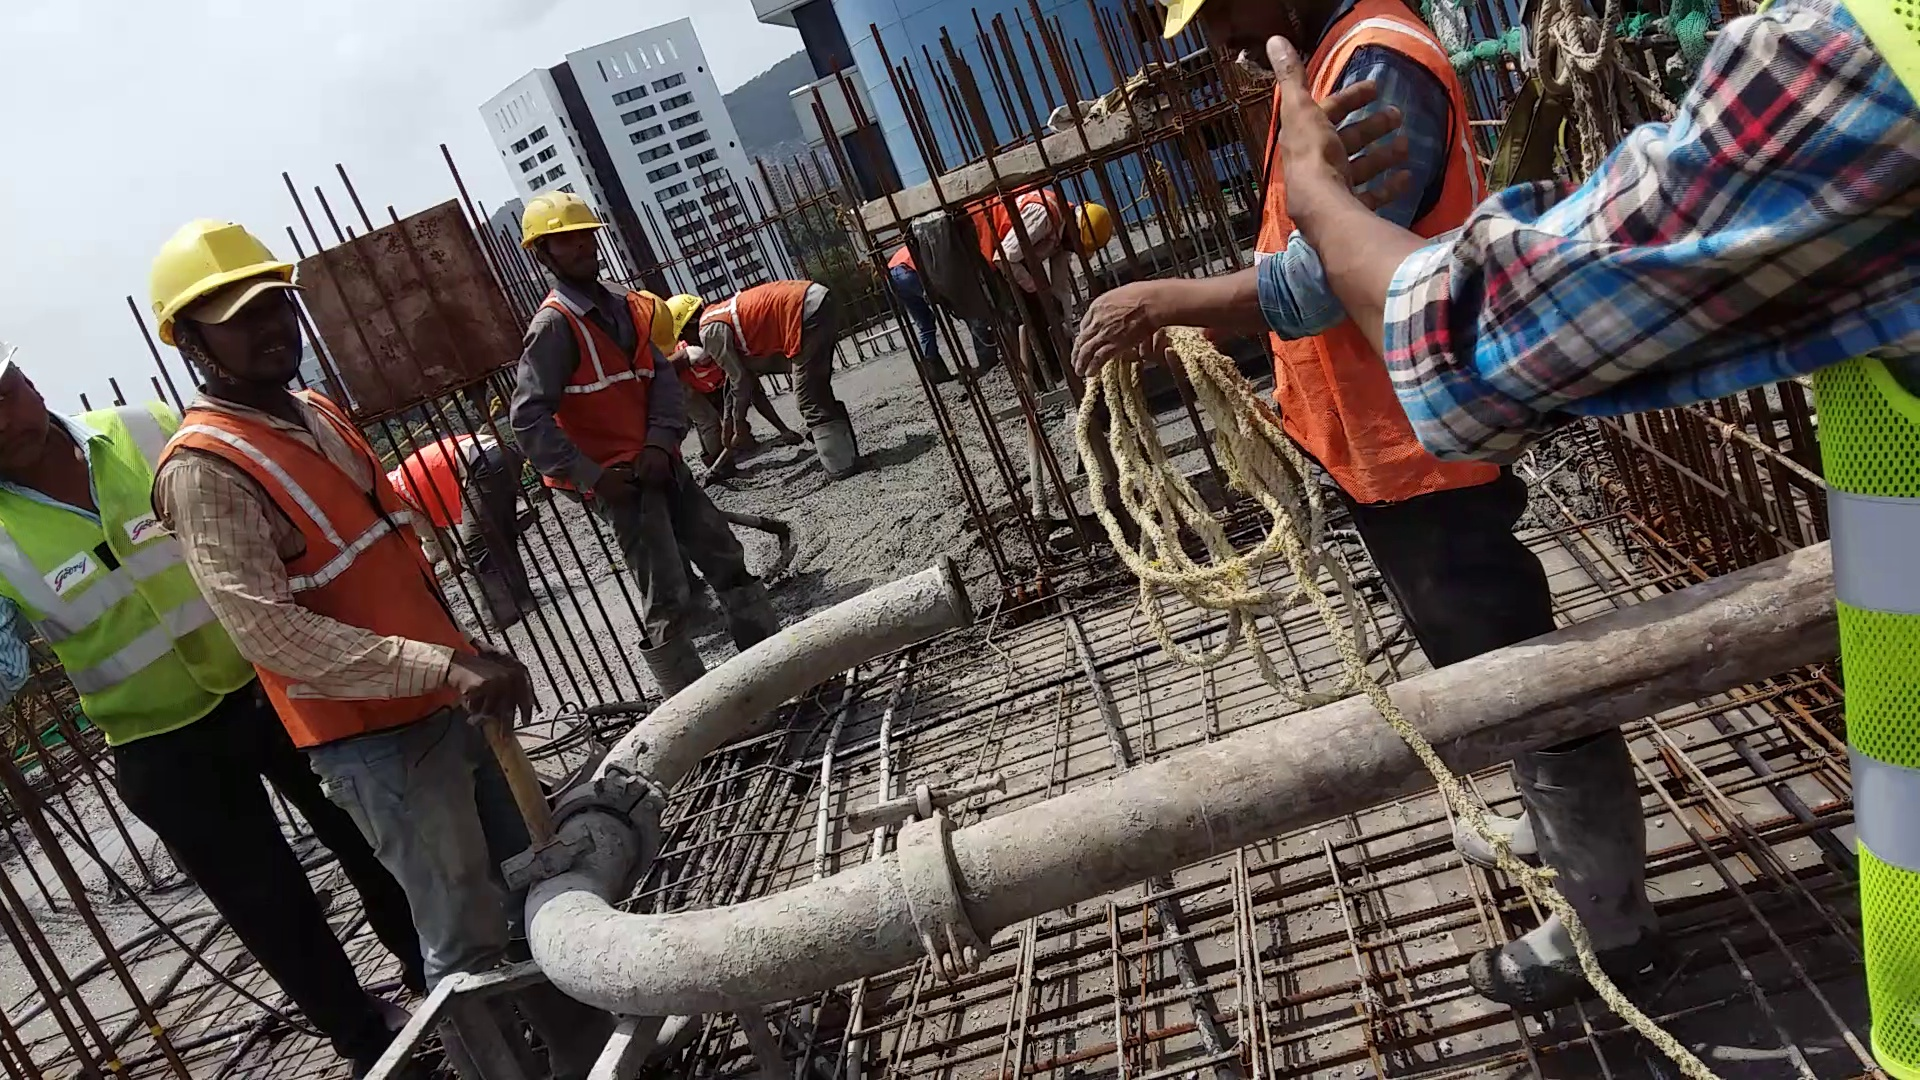SAFE: (146, 208, 469, 758), (524, 181, 673, 504), (655, 281, 829, 363)
